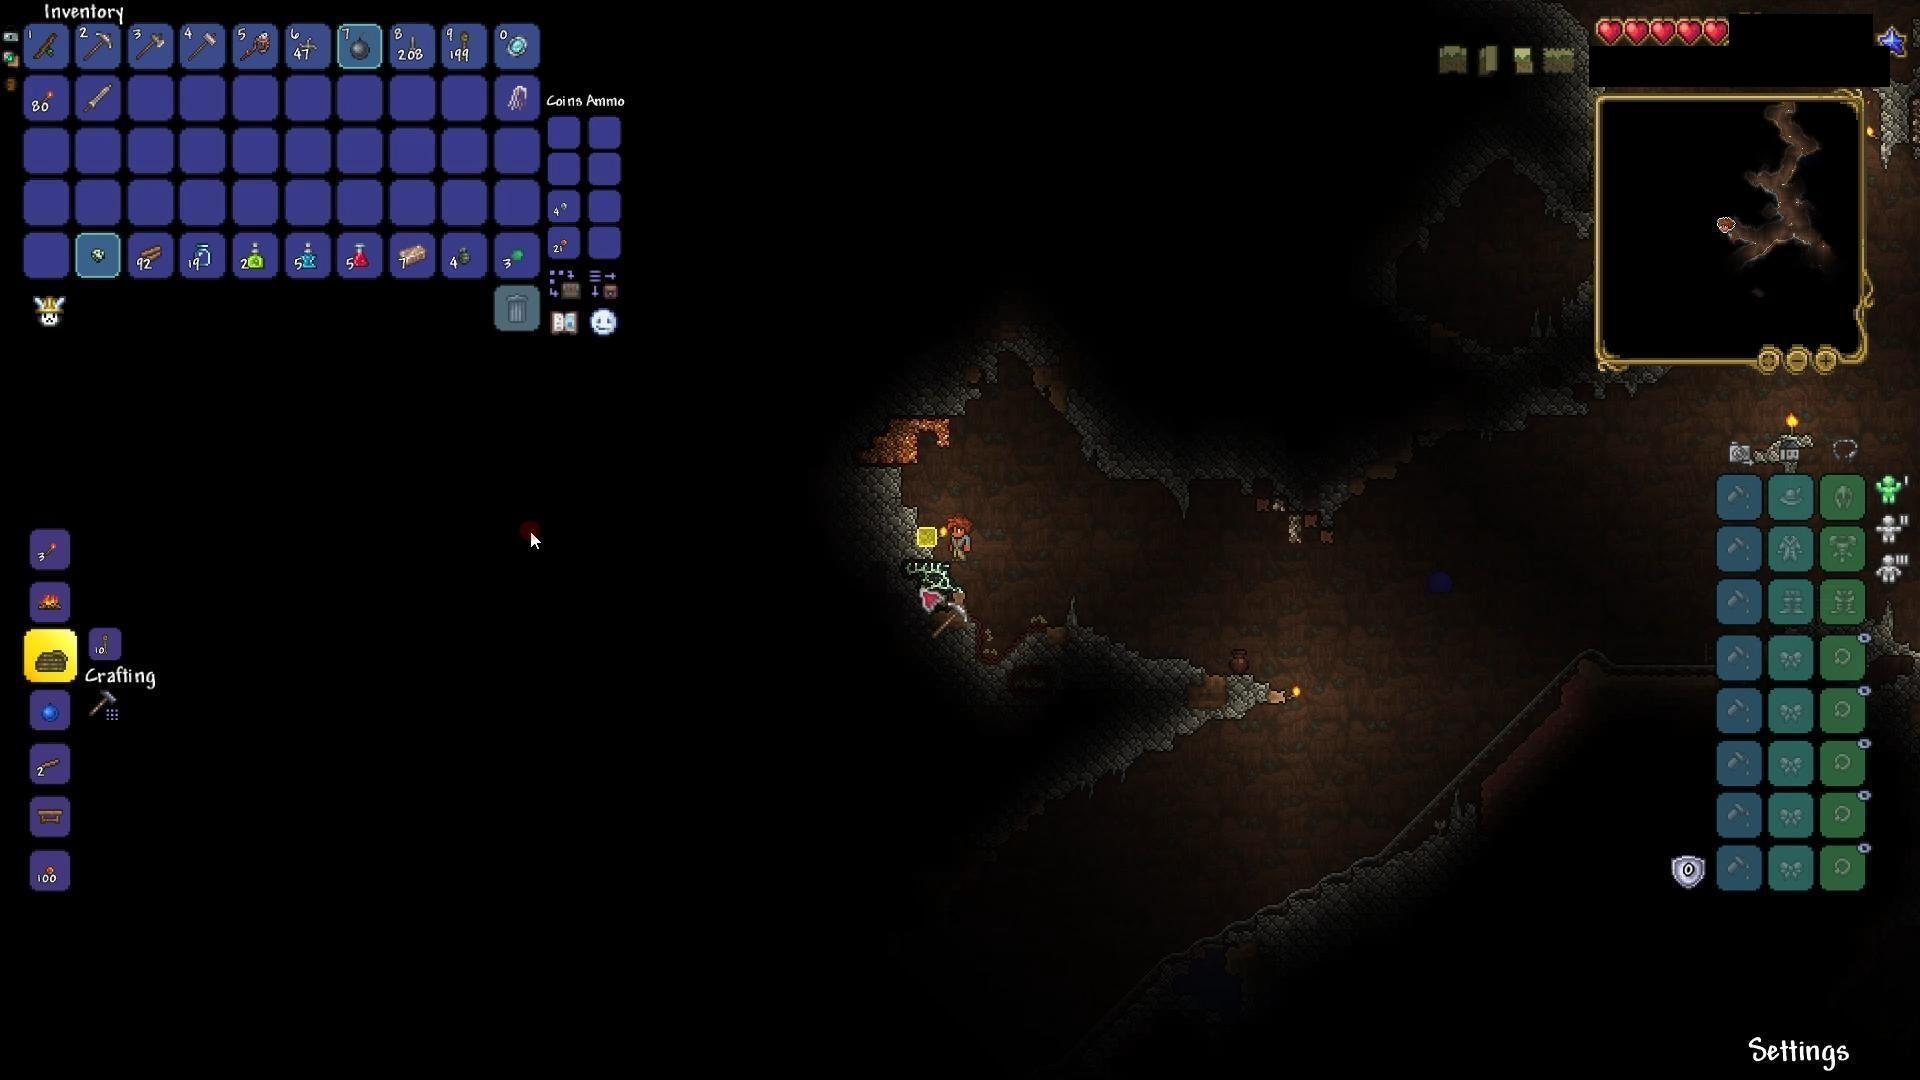heart: (1702, 17, 1733, 51), (1593, 16, 1626, 46), (1676, 15, 1704, 50), (1650, 16, 1676, 49), (1625, 15, 1651, 44)
stone: (1059, 615, 1183, 764), (1059, 404, 1263, 491), (1299, 835, 1458, 934), (891, 339, 1076, 423), (1511, 84, 1593, 243), (939, 625, 1054, 728), (835, 463, 928, 583), (1491, 302, 1580, 423), (1176, 645, 1269, 745)
